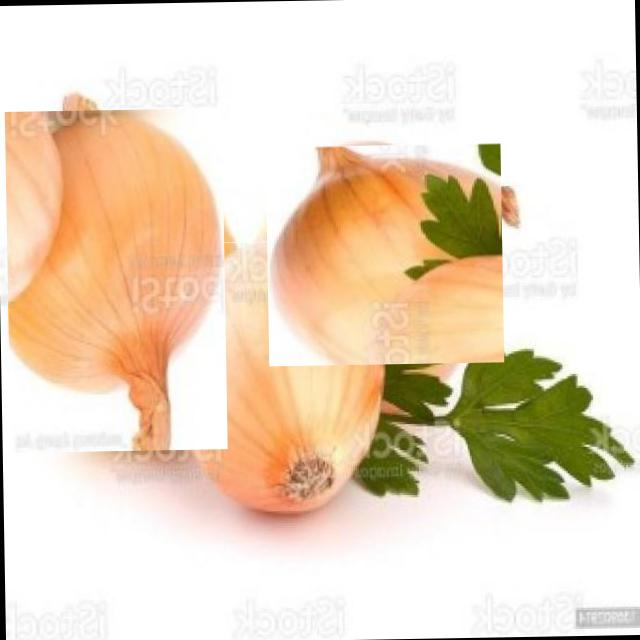Onion: (4, 106, 228, 452), (168, 238, 393, 510), (269, 139, 500, 370)
